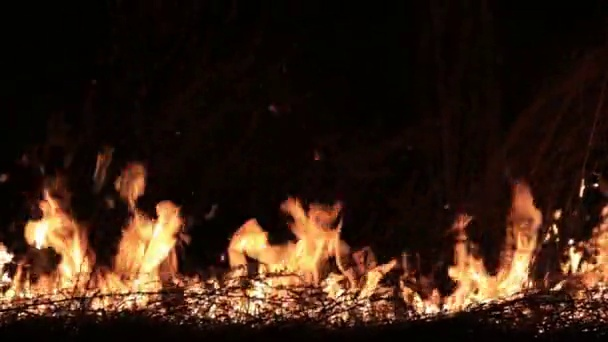fire: (216, 203, 392, 320), (409, 190, 539, 318), (1, 196, 90, 313), (92, 201, 180, 308), (567, 208, 608, 297)
